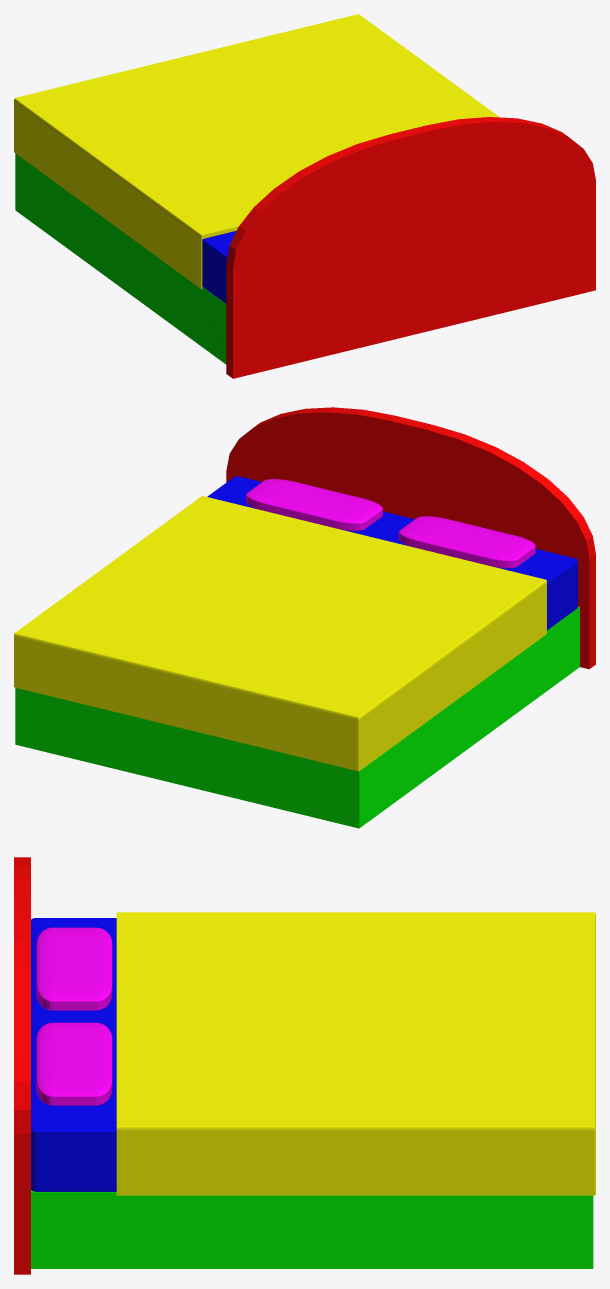
The model's file is bed.fbx.
The picture shows the model from 3 angles, top to bottom: view 1: azimuth 30°, elevation 25°; view 2: azimuth 150°, elevation 25°; view 3: azimuth 270°, elevation 25°; orthographic projection. The views are drawn at different scales.
Parts seen in each view (by area): view 1: Headboard, Blanket, Frame, Mattress; view 2: Blanket, Frame, Headboard, Mattress, Pillow (Right), Pillow (Left); view 3: Blanket, Frame, Mattress, Headboard, Pillow (Right), Pillow (Left).
Boxes of the visible parts, bbox=[...] form: Headboard: bbox=[226, 117, 595, 378]; Blanket: bbox=[14, 14, 499, 289]; Frame: bbox=[15, 153, 226, 364]; Mattress: bbox=[202, 231, 236, 303]; Blanket: bbox=[14, 496, 546, 771]; Frame: bbox=[15, 606, 579, 828]; Headboard: bbox=[226, 407, 595, 669]; Mattress: bbox=[207, 476, 577, 630]; Pillow (Right): bbox=[398, 516, 535, 568]; Pillow (Left): bbox=[246, 479, 382, 530]; Blanket: bbox=[116, 912, 595, 1195]; Frame: bbox=[31, 1190, 593, 1268]; Mattress: bbox=[31, 918, 116, 1191]; Headboard: bbox=[14, 857, 30, 1274]; Pillow (Right): bbox=[36, 927, 112, 1010]; Pillow (Left): bbox=[36, 1022, 112, 1105].
Size of the model in its own units: 380 by 200 by 414.
